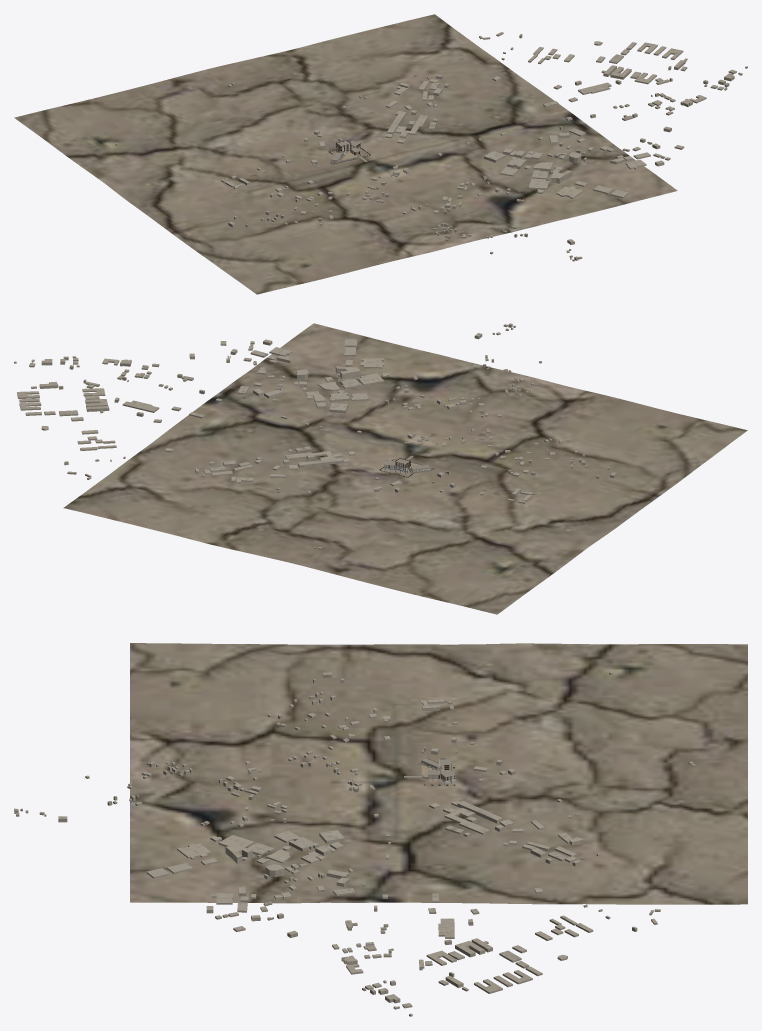
Rendered from modelo.glb.
3 views of the same model, one above another, from view 1: azimuth 30°, elevation 25°; view 2: azimuth 150°, elevation 25°; view 3: azimuth 270°, elevation 25° (orthographic). The views are drawn at different scales.
Parts seen in each view (by area): view 1: Terreno, Edificios vecinos; view 2: Terreno, Edificios vecinos; view 3: Terreno, Edificios vecinos.
Boxes of the visible parts, box(x1,y1,x2,y2) form: Terreno: box(14, 14, 677, 294); Edificios vecinos: box(115, 32, 747, 261); Terreno: box(63, 323, 747, 614); Edificios vecinos: box(14, 323, 616, 561); Terreno: box(130, 643, 747, 904); Edificios vecinos: box(14, 672, 695, 1016).
Size of what is drawn, in the model's own units: 1571 by 26.72 by 1307.
Materials: 12 (6 with a texture image).
